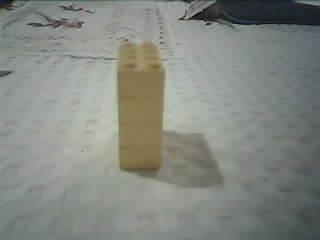lego: (113, 41, 167, 170)
